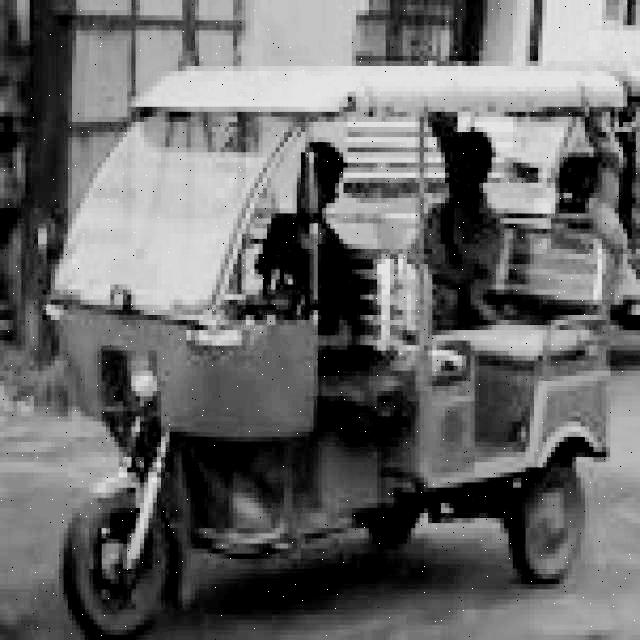Toto: (65, 64, 640, 640)
